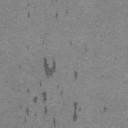red iron: (19, 57, 62, 128), (72, 102, 81, 122), (74, 71, 78, 80), (28, 12, 30, 18), (104, 106, 106, 112), (56, 13, 58, 18)
